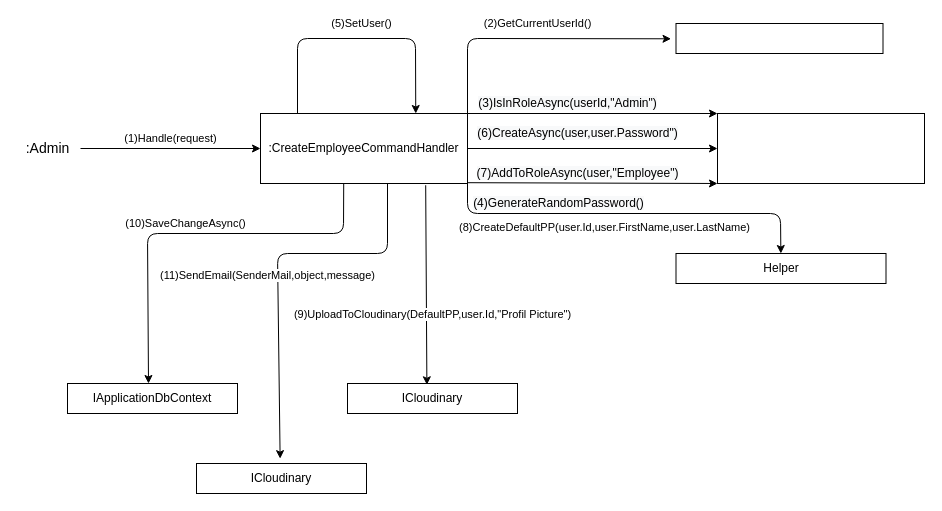
This 942x511 diagram has some shape labels left out. Each missing label, with the box of its shape:
ICurrentUserService: (675, 22, 883, 54)
IIdentityService: (716, 112, 924, 184)
